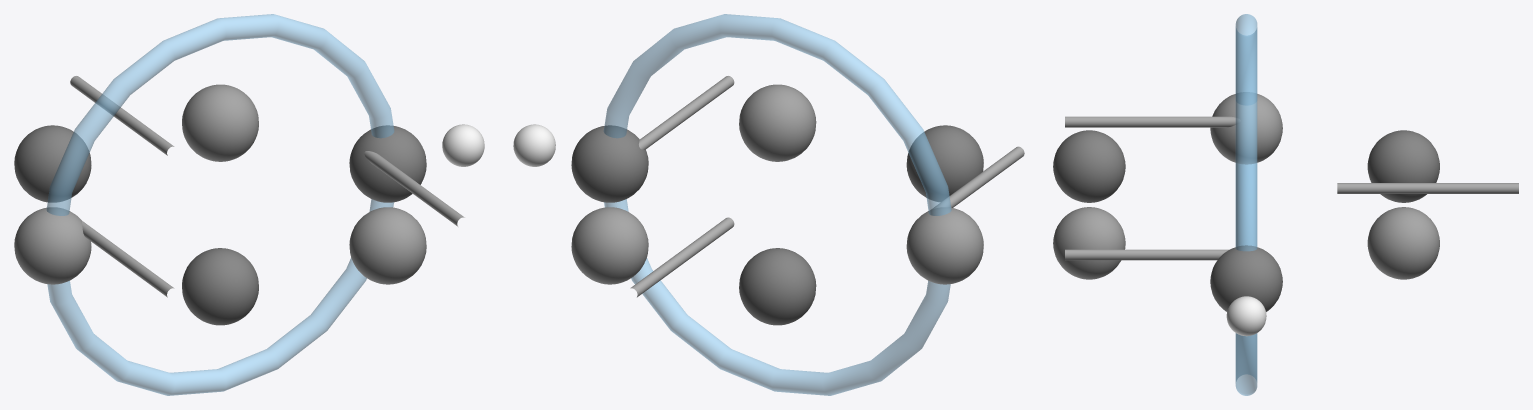
The model's file is benzene-ring.glb.
3 renders of one model, left to right at view 1: azimuth 30°, elevation 25°; view 2: azimuth 150°, elevation 25°; view 3: azimuth 270°, elevation 25°, orthographic. The views are drawn at different scales.
Visible parts, largest first — view 1: benzene_ring, carbon_2, carbon_3, carbon_6, carbon_5, carbon_4, carbon_1, hydrogen_attached, double_bond_3, double_bond_1, double_bond_2; view 2: benzene_ring, carbon_6, carbon_5, carbon_2, carbon_4, carbon_1, carbon_3, double_bond_3, hydrogen_attached, double_bond_1, double_bond_2; view 3: benzene_ring, carbon_3, carbon_6, carbon_4, carbon_2, carbon_1, carbon_5, double_bond_2, double_bond_3, double_bond_1, hydrogen_attached.
Boxes of the visible parts, x1,y1,x2,y2 form: benzene_ring: (46,14,394,395); carbon_2: (349,207,426,284); carbon_3: (182,248,258,325); carbon_6: (182,84,258,161); carbon_5: (14,125,91,202); carbon_4: (14,207,91,284); carbon_1: (349,125,426,202); hydrogen_attached: (442,124,484,166); double_bond_3: (70,76,174,155); double_bond_1: (364,151,464,226); double_bond_2: (81,220,174,297); benzene_ring: (603,14,951,395); carbon_6: (571,207,648,284); carbon_5: (739,248,816,325); carbon_2: (739,84,816,161); carbon_4: (906,207,983,284); carbon_1: (571,125,648,202); carbon_3: (906,125,983,201); double_bond_3: (630,217,734,297); hydrogen_attached: (513,124,555,166); double_bond_1: (639,76,734,149); double_bond_2: (931,146,1024,209); benzene_ring: (1235,14,1257,395); carbon_3: (1053,130,1125,202); carbon_6: (1367,207,1439,279); carbon_4: (1210,92,1282,164); carbon_2: (1053,207,1125,279); carbon_1: (1210,245,1282,311); carbon_5: (1367,130,1439,202); double_bond_2: (1065,116,1240,127); double_bond_3: (1337,183,1518,193); double_bond_1: (1065,249,1228,260); hydrogen_attached: (1226,296,1266,336).
Bounding box in the file's own units: 1.28 × 0.9806 × 1.19.
